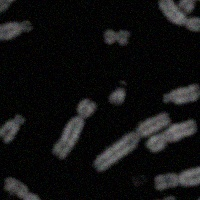chromosome: (92, 112, 171, 173), (53, 96, 97, 159), (145, 120, 198, 153), (158, 0, 200, 31), (155, 162, 200, 190), (3, 174, 50, 200), (0, 0, 29, 35), (0, 113, 25, 143), (163, 85, 200, 105), (0, 20, 31, 41), (103, 28, 130, 46), (109, 80, 127, 105), (176, 0, 200, 14), (195, 145, 200, 200), (179, 0, 200, 13), (152, 197, 177, 200)
